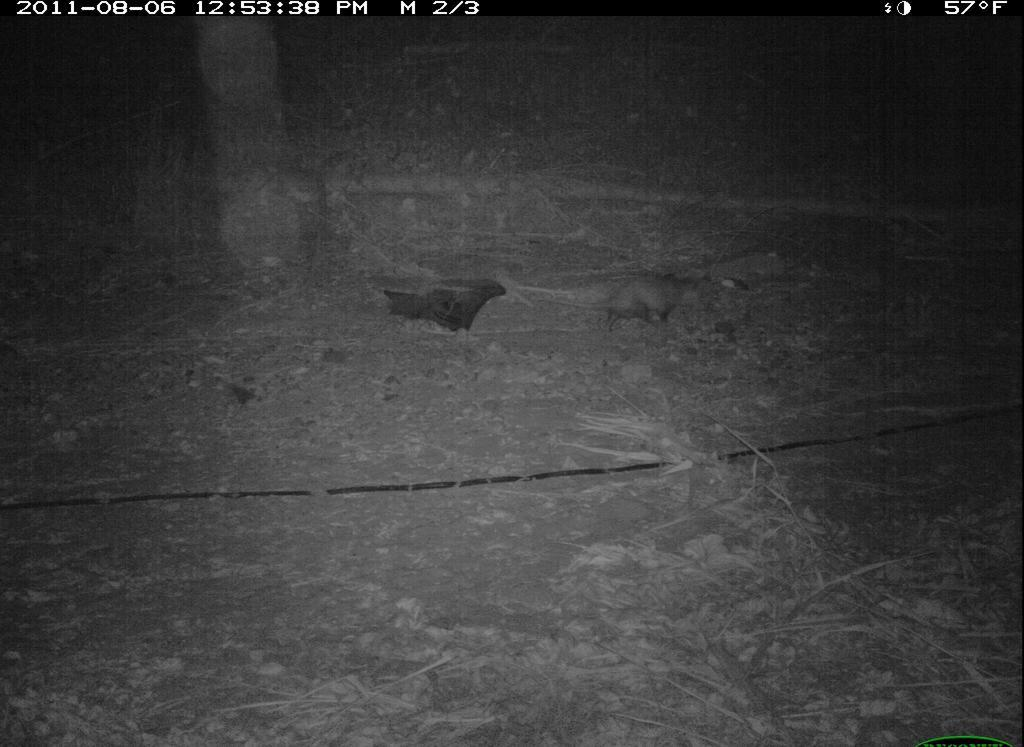opossum: (580, 259, 735, 338)
